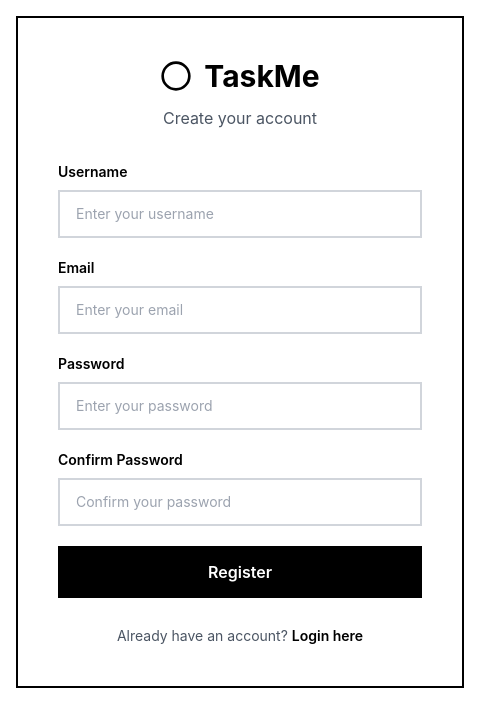
Test: Register Component › shows loading state during form submission
This screenshot has width=481, height=705.
Type "testuser" into the field labelled "Username".
click(240, 214); type("testuser")  # box [58, 190, 422, 238]
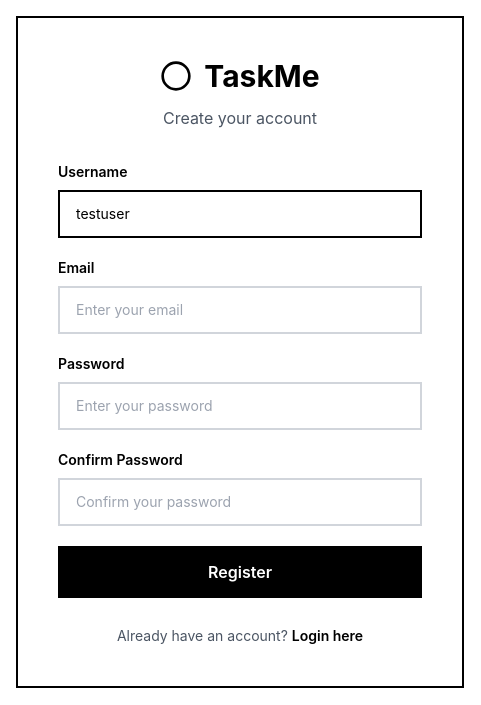
Type "test@example.com" into the field labelled "Email".
click(240, 310); type("test@example.com")  # box [58, 286, 422, 334]
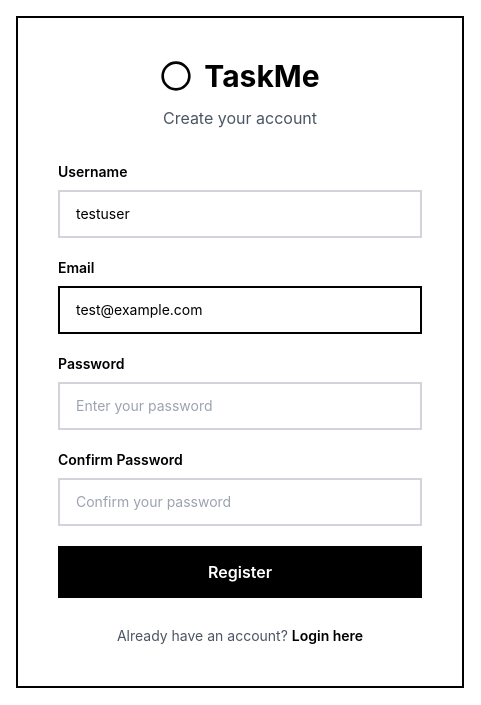
Type "password123" into the password field labelled "Password".
click(240, 406); type("password123")  # box [58, 382, 422, 430]
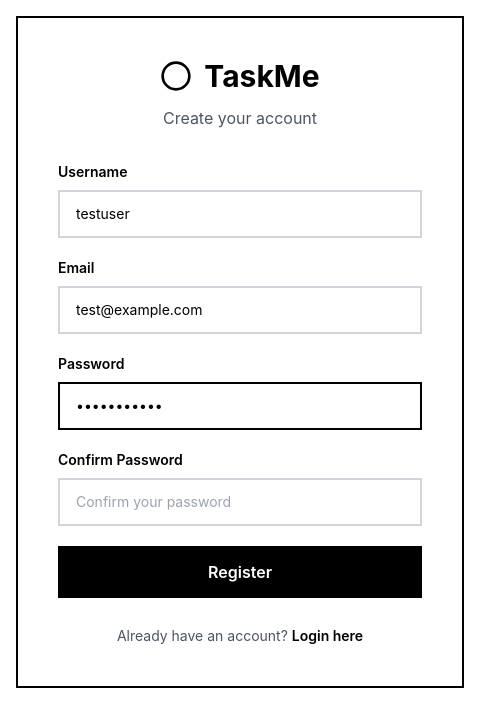
Type "password123" into the password field labelled "Confirm Password".
click(240, 502); type("password123")  # box [58, 478, 422, 526]
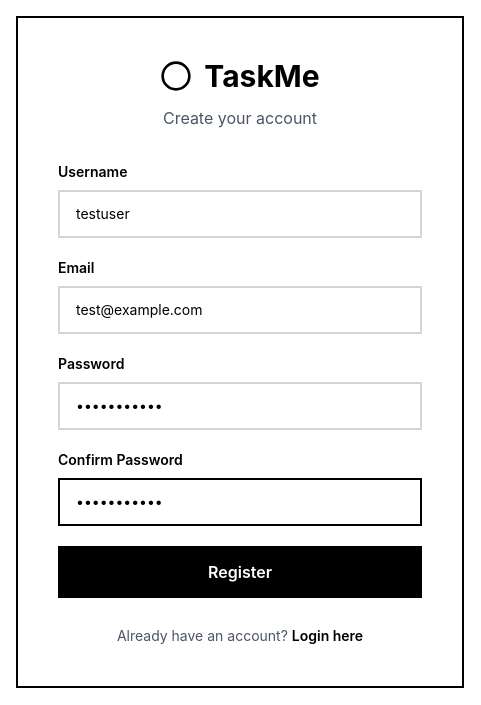
Click the button "Register".
click(240, 572)  # box [58, 546, 422, 598]
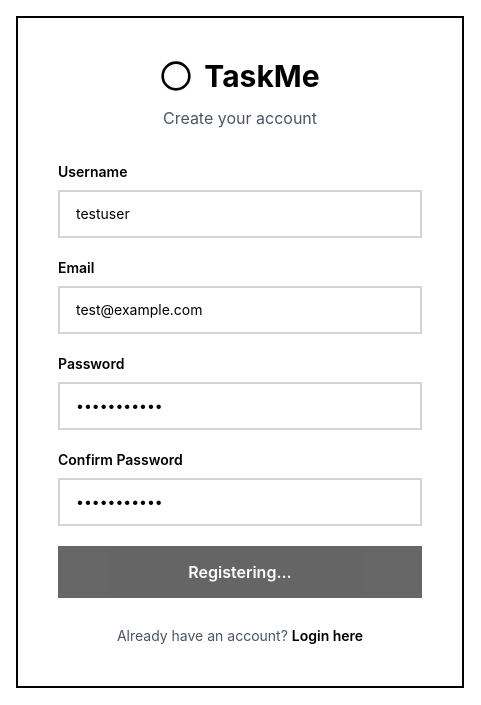
Now the button "Registering..." is shown, box [58, 546, 422, 598]
